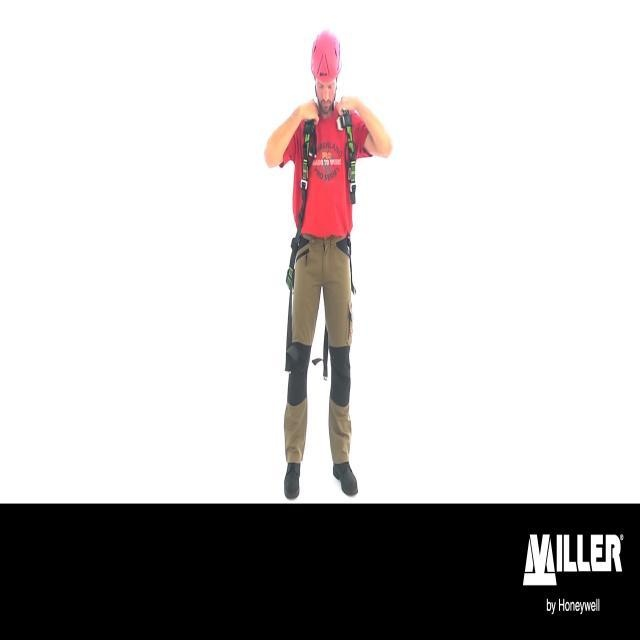Arnes_seguridad: (285, 91, 357, 307)
